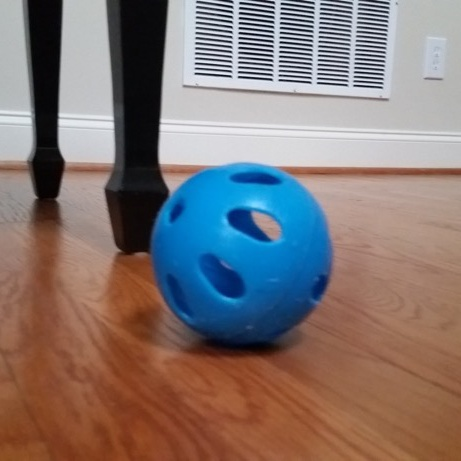blueball: (146, 158, 338, 350)
